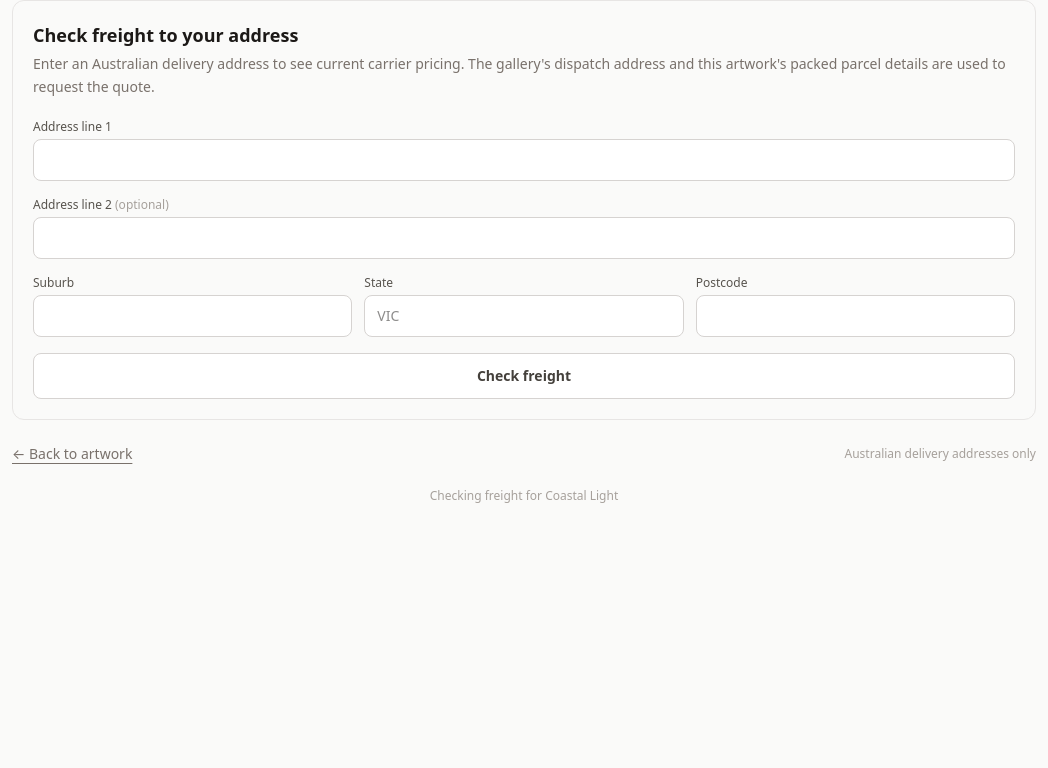
Test: FreightQuoteChecker › does not request a quote until the required guest delivery fields are entered
Click the button "Check freight".
click(524, 376)  # box [33,352,1015,398]
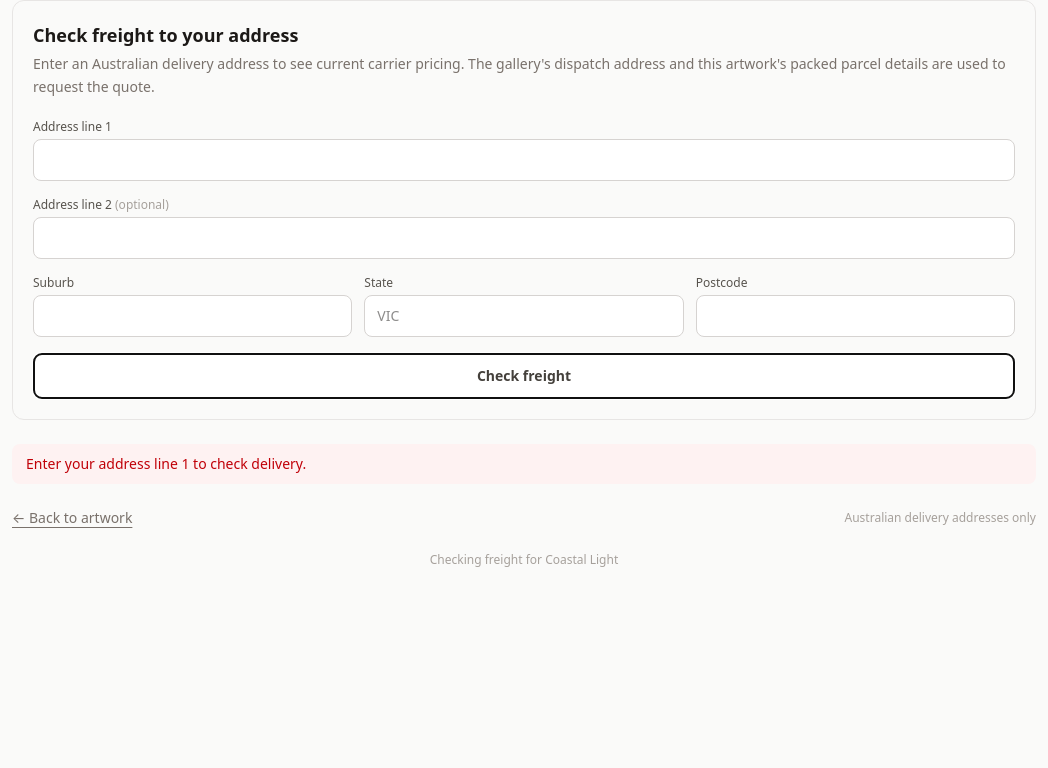
expect the text "Enter your address line 1 to check delivery." is shown: met, box [12,444,1036,484]
